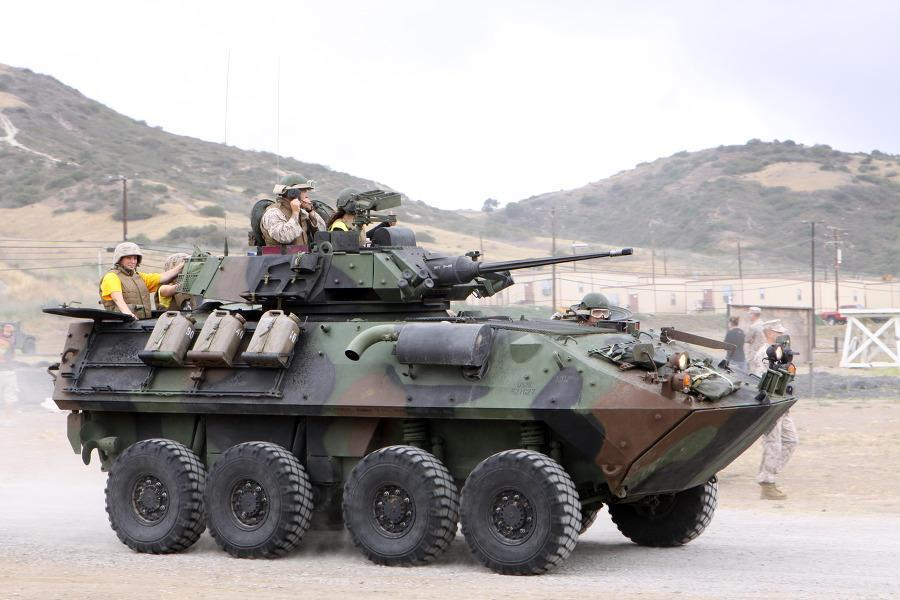MIL_IFV: (53, 195, 796, 574)
